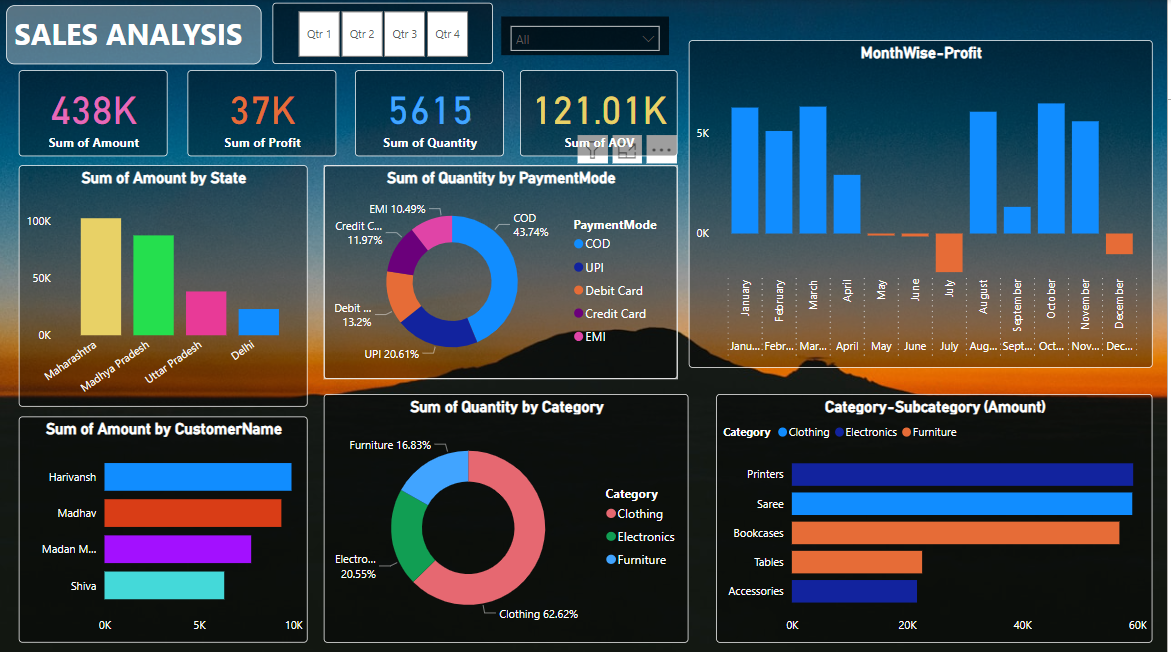

What the dashboard file says about the page in this screenshot:
{"tool":"powerbi","page":{"name":"Page 1","canvas":[1280,720],"ordinal":0},"visuals":[{"type":"textbox","box":[6.9,6.9,279.7,64.4],"z":0},{"type":"columnChart","title":"MonthWise-Profit","fields":{"Category":["Orders.Order Date.Variation.Date Hierarchy.Month","Orders.Order Date.Variation.Date Hierarchy.Year","Orders.Order Date.Variation.Date Hierarchy.Quarter","Orders.Order Date.Variation.Date Hierarchy.Month","Orders.Order Date.Variation.Date Hierarchy.Day"],"Y":["Details.Profit"]},"box":[755.4,45.2,508.7,359.2],"z":1},{"type":"barChart","title":"Category-Subcategory (Amount)","fields":{"Y":["Details.Amount"],"Category":["Details.Sub-Category"],"Series":["Details.Category"]},"box":[785.6,433.3,478.5,272.8],"z":2},{"type":"donutChart","fields":{"Y":["Details.Quantity"],"Category":["Details.Category"]},"box":[355.1,433.3,400.3,272.8],"z":3},{"type":"donutChart","fields":{"Y":["Details.Quantity"],"Category":["Details.PaymentMode"]},"box":[355.1,182.3,388,234.4],"z":4},{"type":"card","title":"Sum of Amount","fields":{"Values":["Details.Amount"]},"box":[20.6,78.1,163.2,94.6],"z":5},{"type":"card","title":"Sum of Profit","fields":{"Values":["Details.Profit"]},"box":[205.7,78.1,163.2,94.6],"z":6},{"type":"card","title":"Sum of Quantity","fields":{"Values":["Details.Quantity"]},"box":[389.4,78.1,163.2,94.6],"z":7},{"type":"card","title":"Average order value","fields":{"Values":["Details.AOV"]},"box":[570.4,78.1,172.8,94.6],"z":8},{"type":"columnChart","fields":{"Y":["Details.Amount"],"Category":["Orders.State"]},"box":[20.6,182.3,316.7,264.6],"z":9},{"type":"barChart","fields":{"Y":["Details.Amount"],"Category":["Orders.CustomerName"]},"box":[21,458,317,248],"z":10},{"type":"slicer","fields":{"Values":["Orders.Order Date.Variation.Date Hierarchy.Quarter"]},"box":[298.9,4.1,241.3,67.2],"z":11},{"type":"slicer","fields":{"Values":["Orders.City"]},"box":[549.8,19.2,183.7,42.5],"z":12}]}

Visuals, with their boxes in screenshot pixels (x1, y1, x2, y2), scaled from the page's 1280x720 canvas onto the 1171x652 screenshot:
textbox: 6,6,262,65
"MonthWise-Profit" columnChart: 691,41,1156,366
"Category-Subcategory (Amount)" barChart: 719,392,1156,639
donutChart - Details.Quantity x Details.Category: 325,392,691,639
donutChart - Details.Quantity x Details.PaymentMode: 325,165,680,377
"Sum of Amount" card: 19,71,168,156
"Sum of Profit" card: 188,71,337,156
"Sum of Quantity" card: 356,71,506,156
"Average order value" card: 522,71,680,156
columnChart - Details.Amount x Orders.State: 19,165,309,405
barChart - Details.Amount x Orders.CustomerName: 19,415,309,639
slicer - Orders.Order Date.Variation.Date Hierarchy.Quarter: 273,4,494,65
slicer - Orders.City: 503,17,671,56
